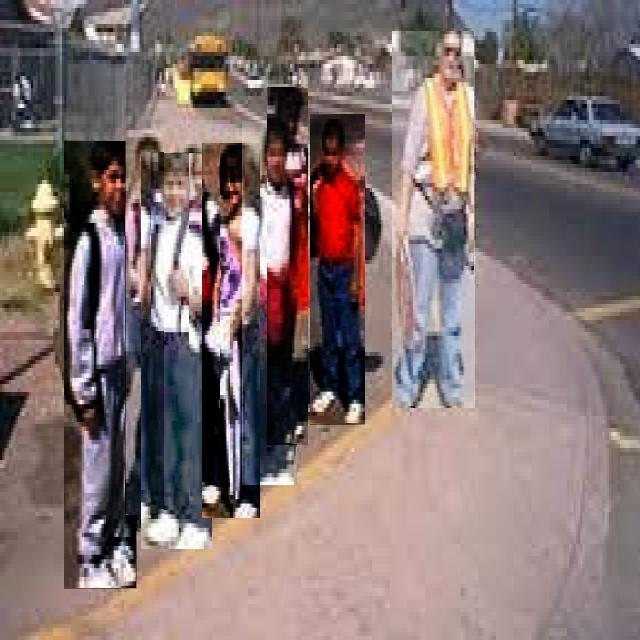without scooter: (65, 142, 138, 590), (393, 31, 476, 408), (142, 153, 212, 549), (202, 144, 260, 518), (242, 121, 297, 485), (310, 115, 365, 426), (126, 131, 164, 516), (268, 88, 308, 446)
